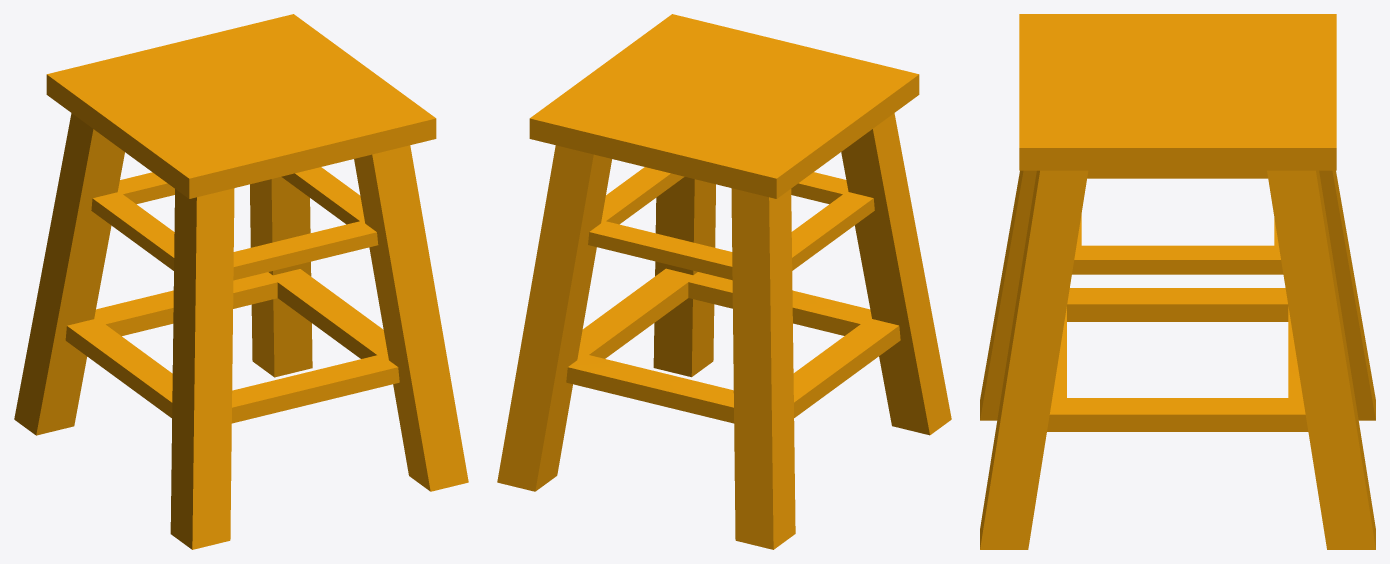
File: Stand.fbx
3 views of the same model, side by side, from view 1: azimuth 30°, elevation 25°; view 2: azimuth 150°, elevation 25°; view 3: azimuth 270°, elevation 25° (orthographic). The views are drawn at different scales.
Visible parts, largest first — view 1: Stand; view 2: Stand; view 3: Stand.
Boxes of the visible parts, box(x1,y1,x2,y2) form: Stand: box(14, 14, 468, 549); Stand: box(497, 14, 951, 549); Stand: box(980, 14, 1375, 549).
Bounding box in the file's own units: 1.59 × 1.95 × 1.78.
